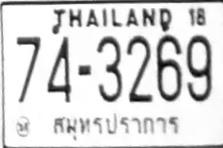2: (125, 35, 150, 102)
3: (96, 35, 122, 101)
4: (45, 35, 71, 101)
6: (155, 34, 182, 101)
7: (16, 35, 40, 102)
9: (186, 34, 212, 101)
SPK: (52, 110, 182, 139)
